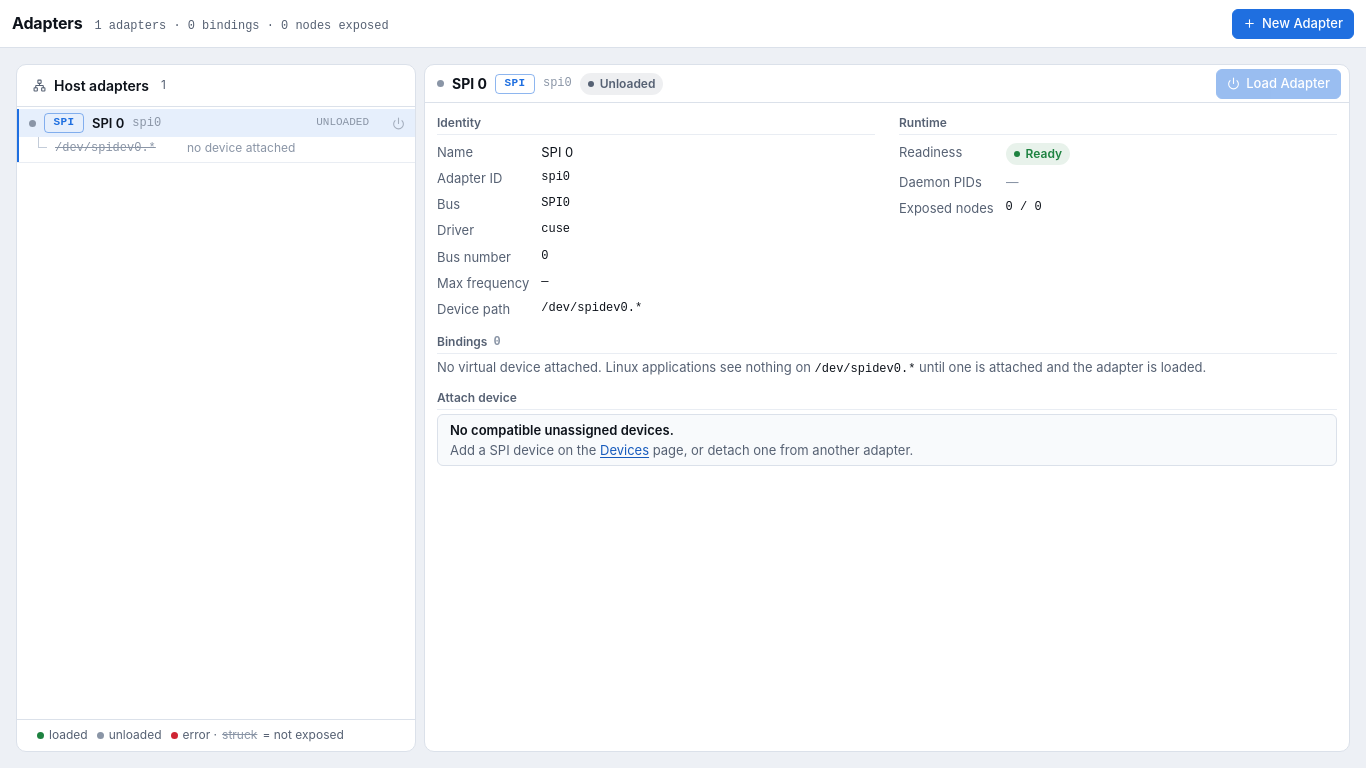
Test: adapters page › creates and loads a kernel GPIO controller
This screenshot has width=1366, height=768.
Expected: the heading "SPI 0" is shown, [452,74,487,93]
Click the button "New Adapter" at (1293, 24), box [1232,8,1354,38]
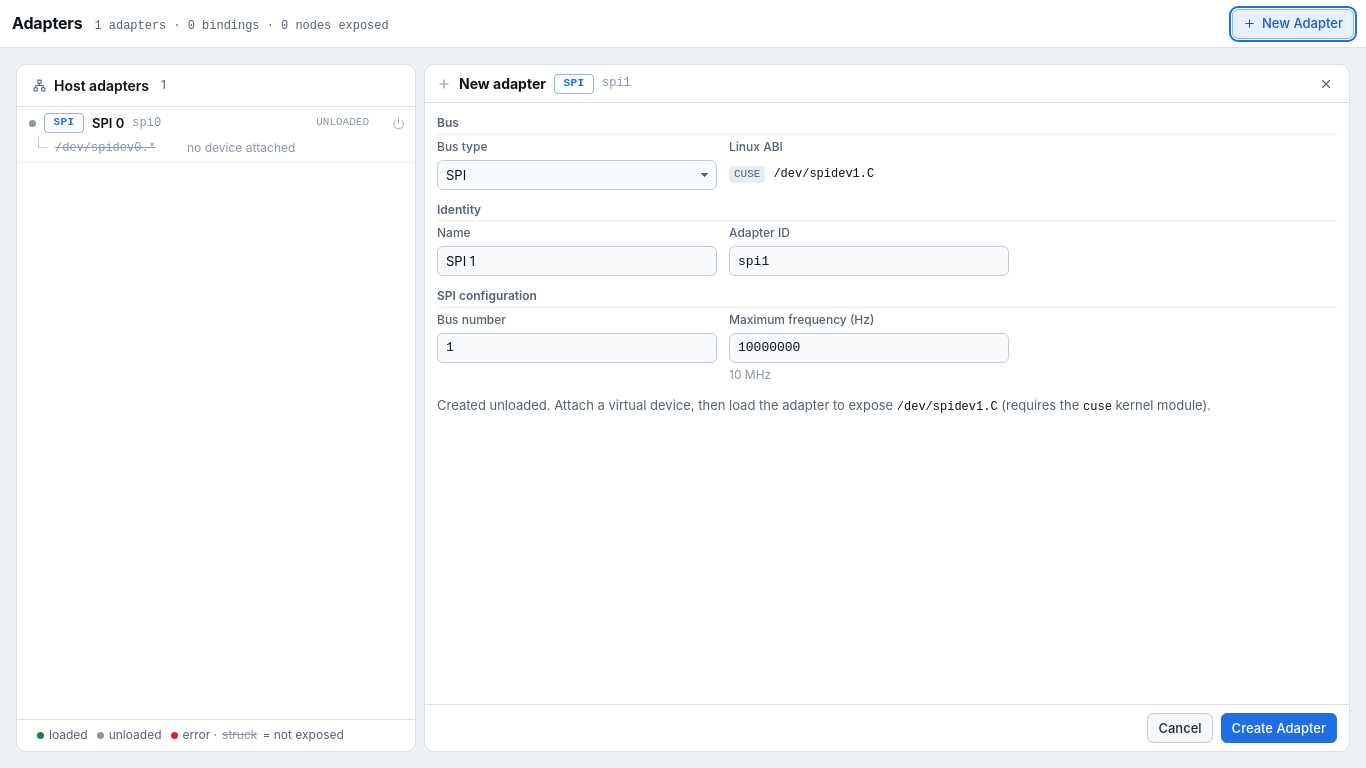
Select "GPIO" in the dropdown labelled "Bus type" at (577, 175), box [437,160,717,190]
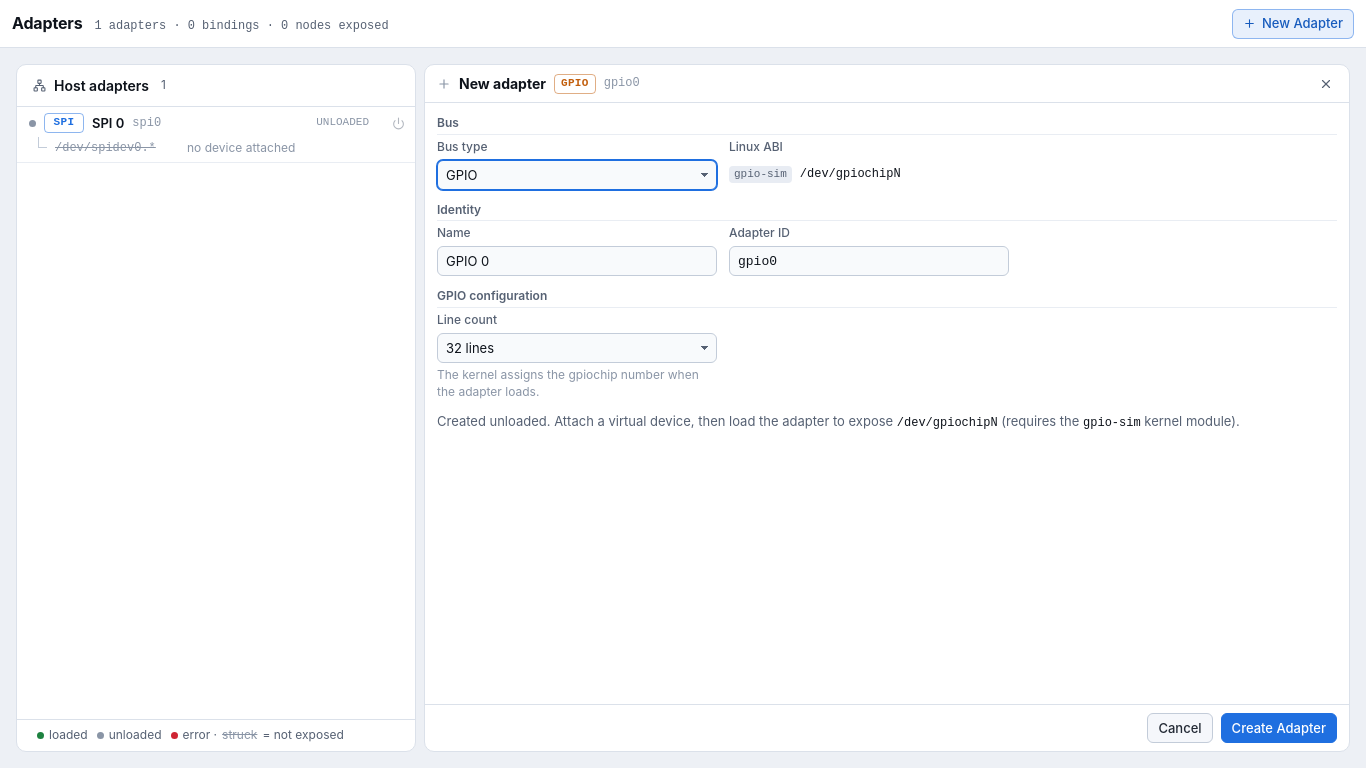
Click the button "Create Adapter" at (1279, 728), box [1221,713,1337,743]
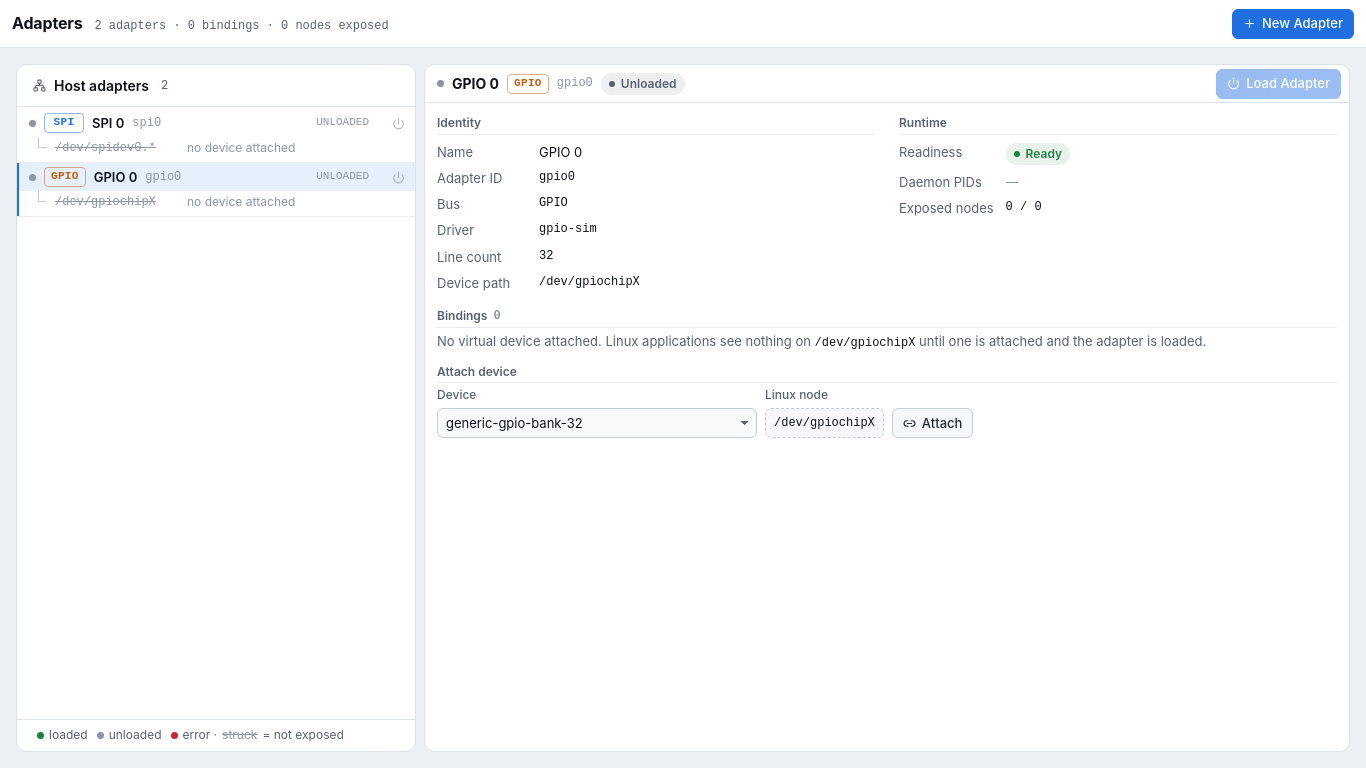
Expected: the heading "GPIO 0" is shown, [452,74,499,93]
Expected: the text "/dev/gpiochipX" below "/dev/spidev0.*" is shown, [55,195,156,209]
Click the button "Attach" at (933, 423), box [892,408,973,438]
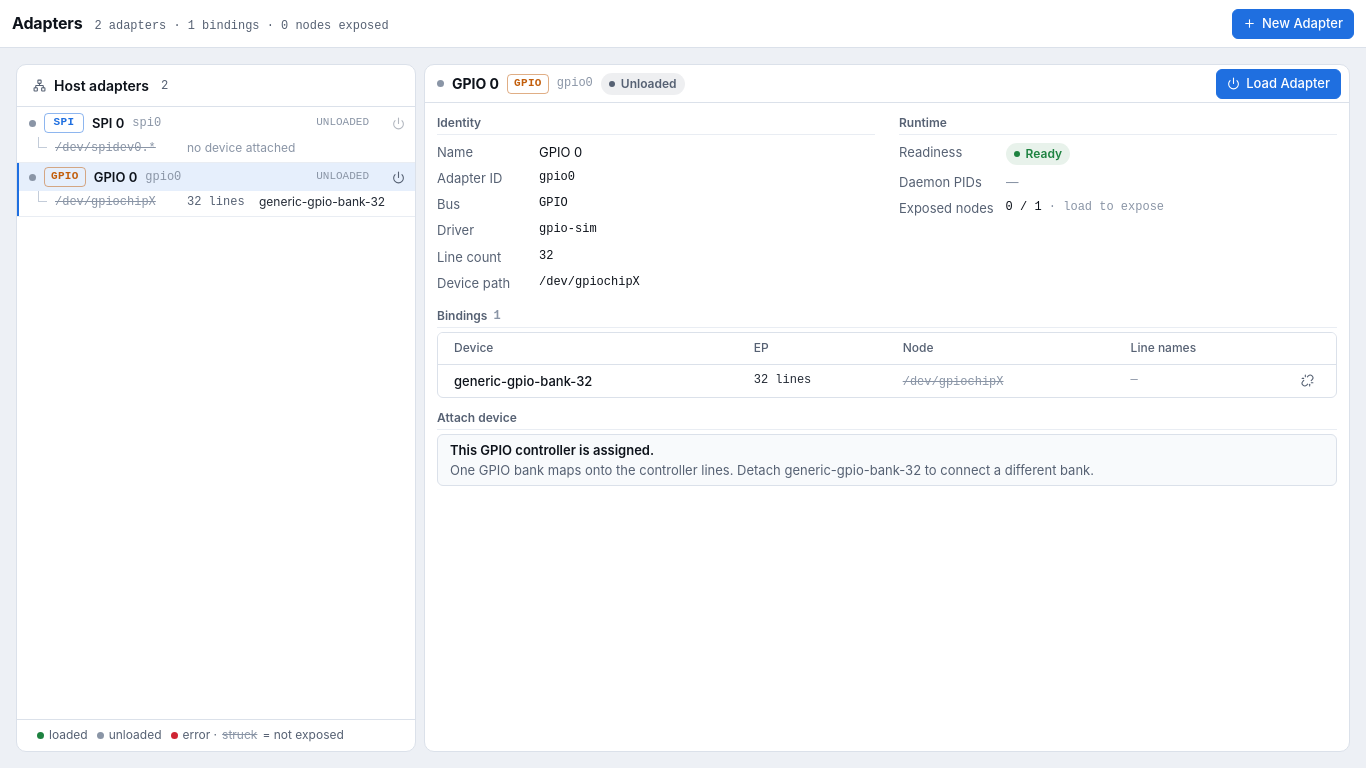
Expected: the button "Load Adapter" is enabled
Click the button "Load Adapter" at (1279, 84), box [1216,68,1341,98]
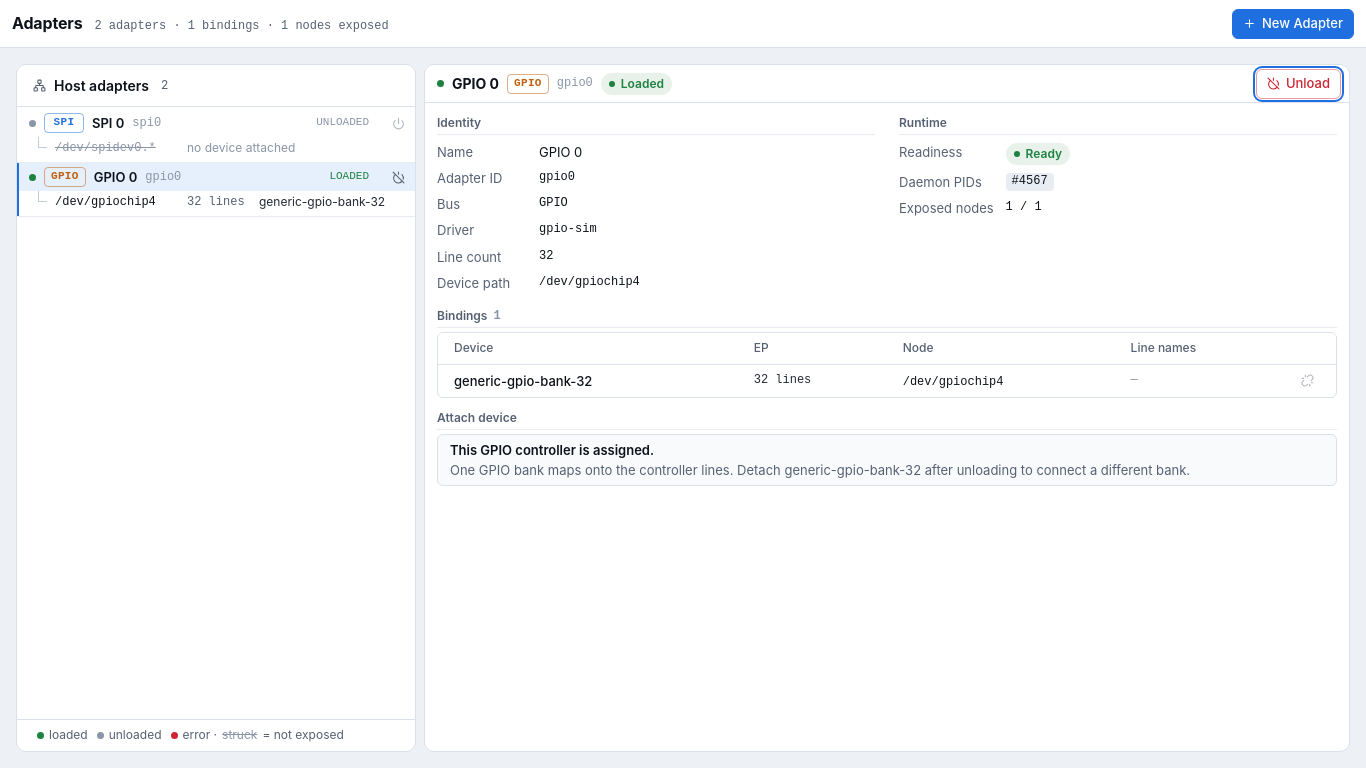
Expected: the text "/dev/gpiochip4" below "/dev/spidev0.*" is shown, [55,195,156,209]
